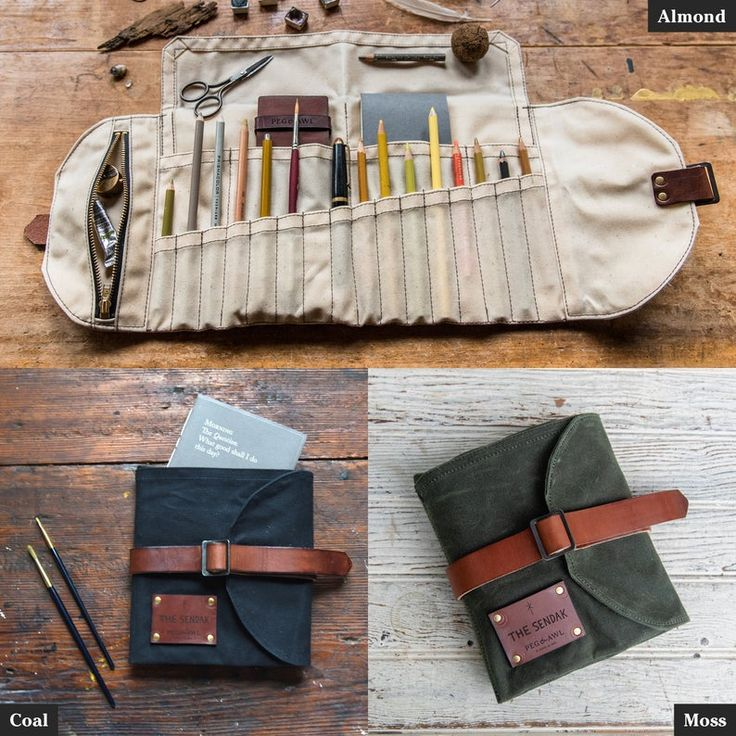cuero: (129, 489, 689, 670)
